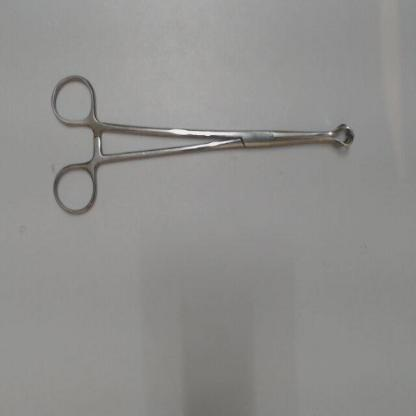8 Babcock Tissue Forceps: (47, 66, 363, 219)
